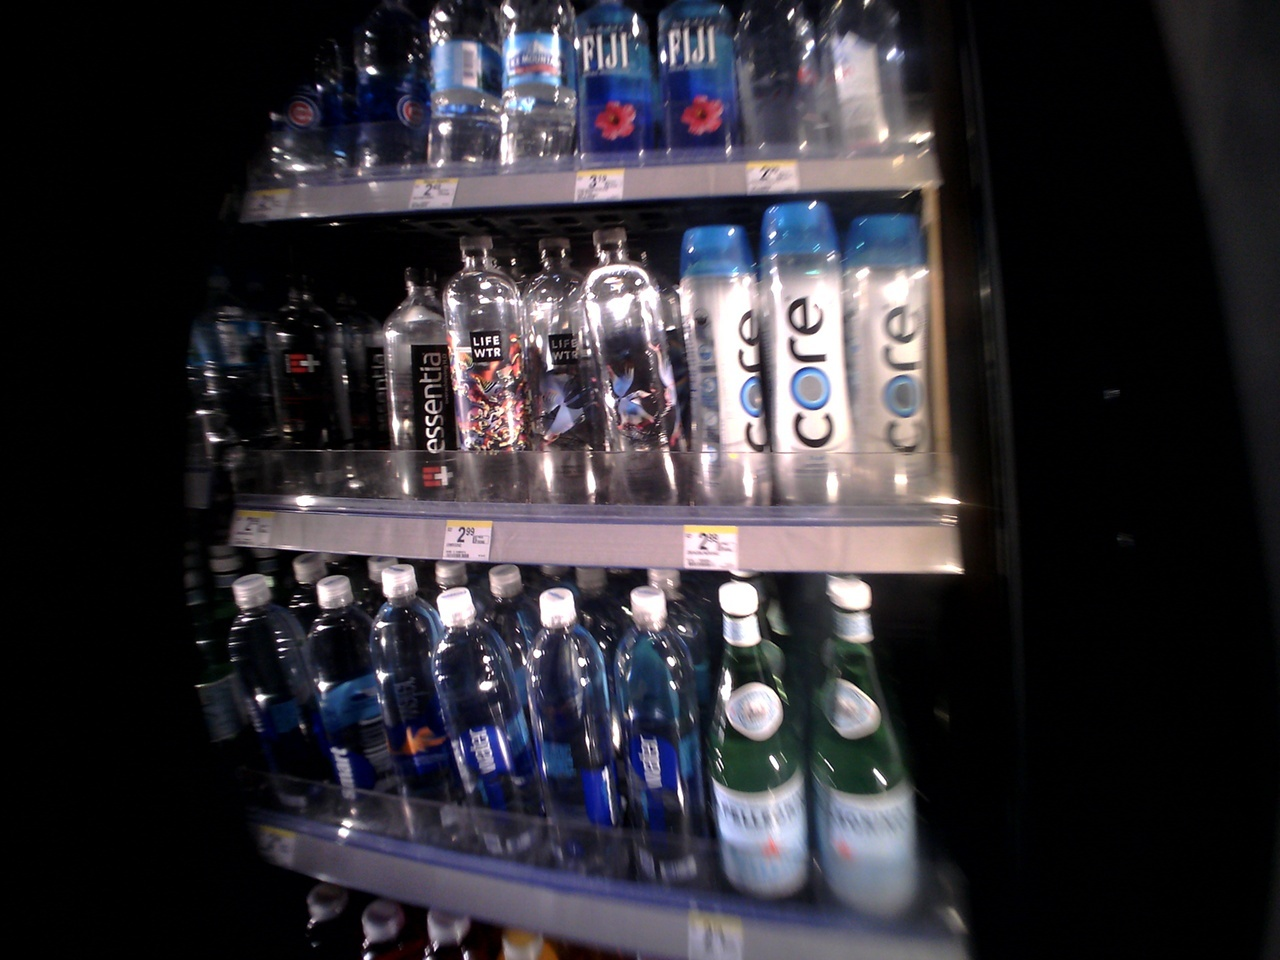shelf: (171, 193, 943, 561), (193, 553, 926, 914), (195, 0, 938, 198)
